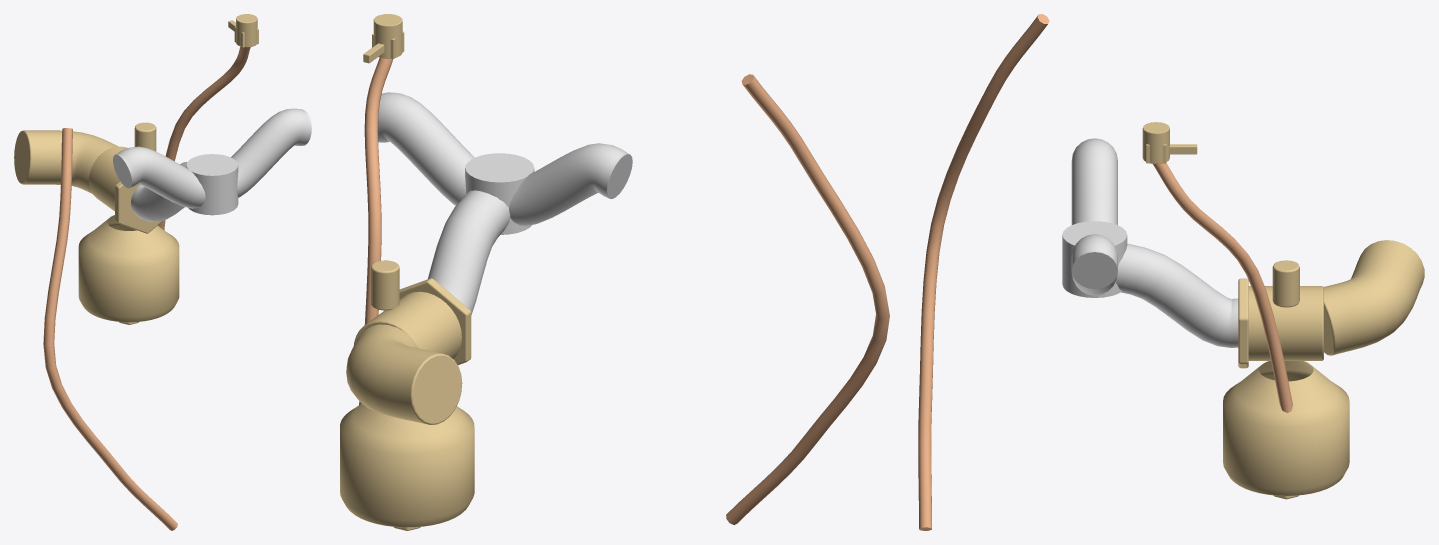
Rendered from bike_vintage_vtwin__carb.glb.
The picture shows the model from 3 angles, left to right: view 1: azimuth 30°, elevation 25°; view 2: azimuth 150°, elevation 25°; view 3: azimuth 270°, elevation 25°; orthographic projection. The views are drawn at different scales.
Visible parts, largest first — view 1: powertrain__intake__carburettor, powertrain__intake__manifold, powertrain__fuel_system__lines, powertrain__fuel_system__tap; view 2: powertrain__intake__carburettor, powertrain__intake__manifold, powertrain__fuel_system__lines, powertrain__fuel_system__tap; view 3: powertrain__intake__carburettor, powertrain__intake__manifold, powertrain__fuel_system__lines, powertrain__fuel_system__tap.
Boxes of the visible parts, x1,y1,x2,y2 form: powertrain__intake__carburettor: (14, 122, 179, 324); powertrain__intake__manifold: (113, 108, 311, 221); powertrain__fuel_system__lines: (43, 46, 250, 530); powertrain__fuel_system__tap: (228, 14, 258, 47); powertrain__intake__carburettor: (340, 260, 474, 530); powertrain__intake__manifold: (378, 92, 632, 314); powertrain__fuel_system__lines: (359, 57, 889, 524); powertrain__fuel_system__tap: (363, 14, 404, 63); powertrain__intake__carburettor: (1223, 240, 1424, 499); powertrain__intake__manifold: (1062, 138, 1238, 347); powertrain__fuel_system__lines: (918, 14, 1292, 530); powertrain__fuel_system__tap: (1142, 122, 1197, 163).
Bounding box in the file's own units: 27.26 × 32.7 × 29.64.
